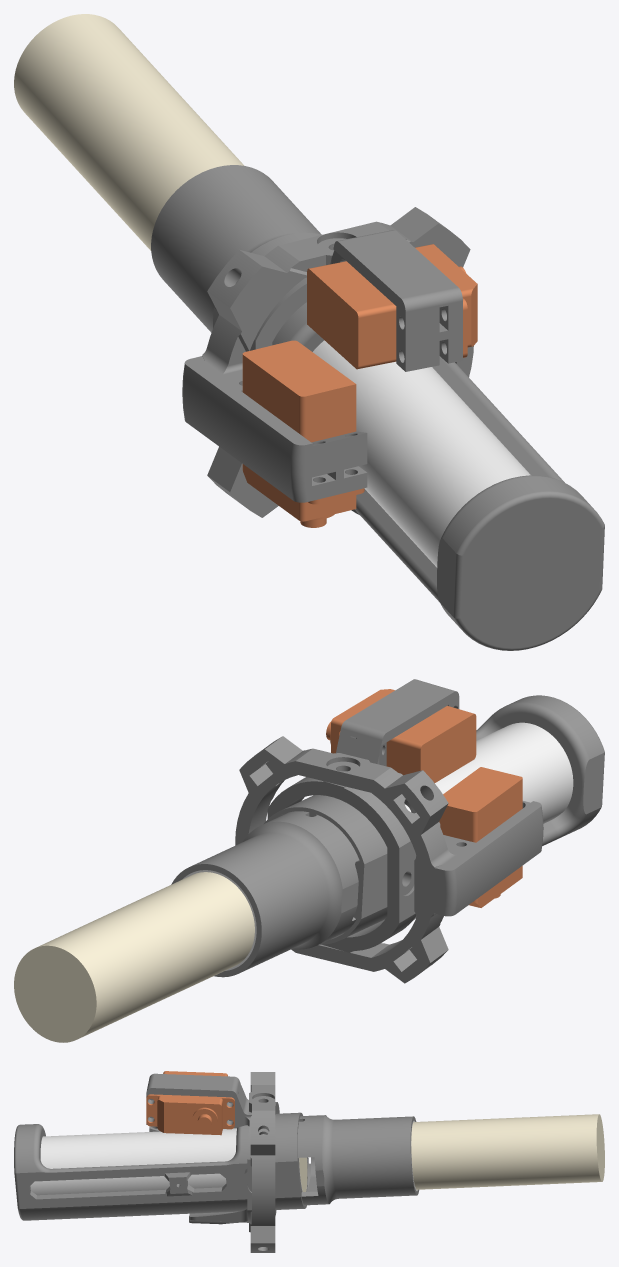
File: tvc-mount.gltf
3 renders of one model, top to bottom at view 1: azimuth 30°, elevation 25°; view 2: azimuth 150°, elevation 25°; view 3: azimuth 270°, elevation 25°, orthographic. The views are drawn at different scales.
Visible parts, largest first — view 1: Descent Motor Tube, 24mm E12, Outer Gimbal Mount, 98mm E12 Sleeve, HV93i (×2), Ascent Motor Tube, Inner Gimbal Mount; view 2: 24mm E12, Outer Gimbal Mount, Ascent Motor Tube, Descent Motor Tube, Inner Gimbal Mount, HV93i (×2), 98mm E12 Sleeve; view 3: Descent Motor Tube, 24mm E12 (×2), Ascent Motor Tube, 98mm E12 Sleeve, Outer Gimbal Mount, Inner Gimbal Mount, HV93i.
Boxes of the visible parts, x1,y1,x2,y2 form: Descent Motor Tube: [272, 302, 604, 650]; 24mm E12: [14, 14, 244, 250]; Outer Gimbal Mount: [182, 207, 473, 517]; 98mm E12 Sleeve: [313, 340, 530, 567]; HV93i (×2): [242, 244, 477, 527]; Ascent Motor Tube: [151, 165, 321, 332]; Inner Gimbal Mount: [250, 230, 462, 514]; 24mm E12: [14, 872, 254, 1042]; Outer Gimbal Mount: [235, 736, 543, 983]; Ascent Motor Tube: [171, 811, 359, 977]; Descent Motor Tube: [264, 695, 604, 944]; Inner Gimbal Mount: [267, 679, 459, 952]; HV93i (×2): [326, 689, 522, 907]; 98mm E12 Sleeve: [405, 722, 573, 823]; Descent Motor Tube: [14, 1112, 308, 1220]; 24mm E12 (×2): [299, 1114, 604, 1191]; Ascent Motor Tube: [297, 1115, 419, 1205]; 98mm E12 Sleeve: [30, 1128, 307, 1195]; Outer Gimbal Mount: [149, 1072, 275, 1252]; Inner Gimbal Mount: [146, 1073, 279, 1224]; HV93i: [146, 1071, 234, 1135].
Size of the model in its own units: 0.06 by 0.057 by 0.2089.
